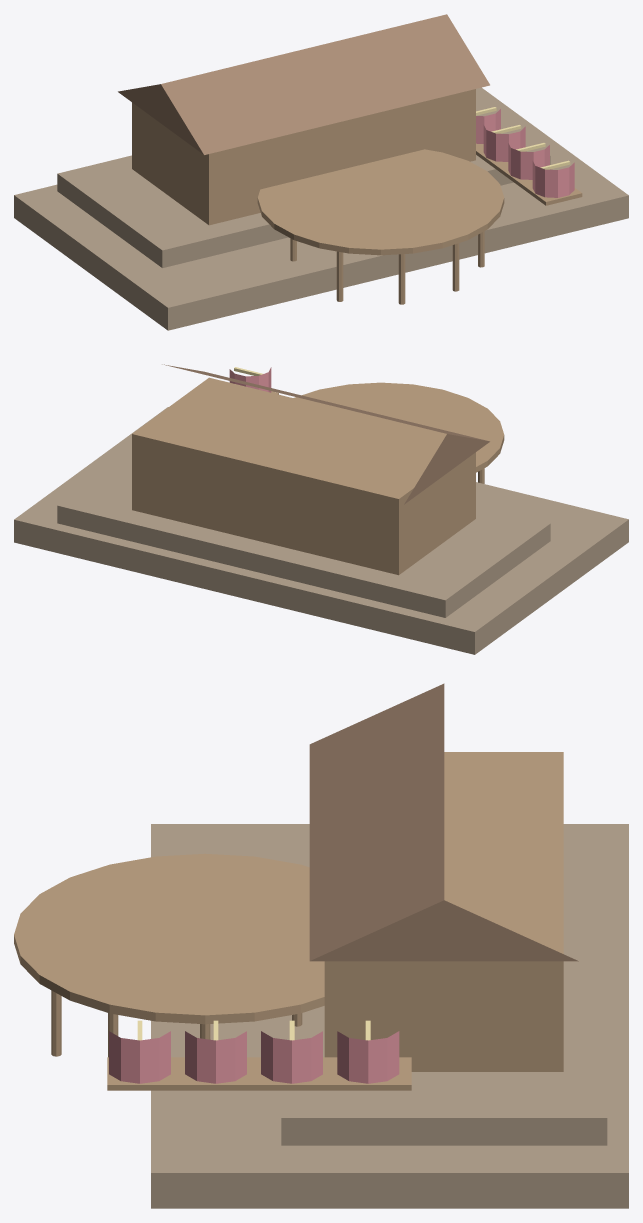
The model's file is lm_112_to_hop_me_linh_coffee_garden_san_go_san_may_va_ho_dap_me_linh.glb.
3 views of the same model, one above another, from view 1: azimuth 30°, elevation 25°; view 2: azimuth 150°, elevation 25°; view 3: azimuth 270°, elevation 25° (orthographic). The views are drawn at different scales.
Parts seen in each view (by area): view 1: lm_112_to_hop_me_linh_coffee_garden_san_go_san_may_va_ho_dap; view 2: lm_112_to_hop_me_linh_coffee_garden_san_go_san_may_va_ho_dap; view 3: lm_112_to_hop_me_linh_coffee_garden_san_go_san_may_va_ho_dap.
Boxes of the visible parts, box(x1,y1,x2,y2) form: lm_112_to_hop_me_linh_coffee_garden_san_go_san_may_va_ho_dap: box(14, 14, 628, 330); lm_112_to_hop_me_linh_coffee_garden_san_go_san_may_va_ho_dap: box(14, 364, 628, 654); lm_112_to_hop_me_linh_coffee_garden_san_go_san_may_va_ho_dap: box(14, 683, 628, 1208).
Bounding box in the file's own units: 38 × 12.3 × 28.3.
